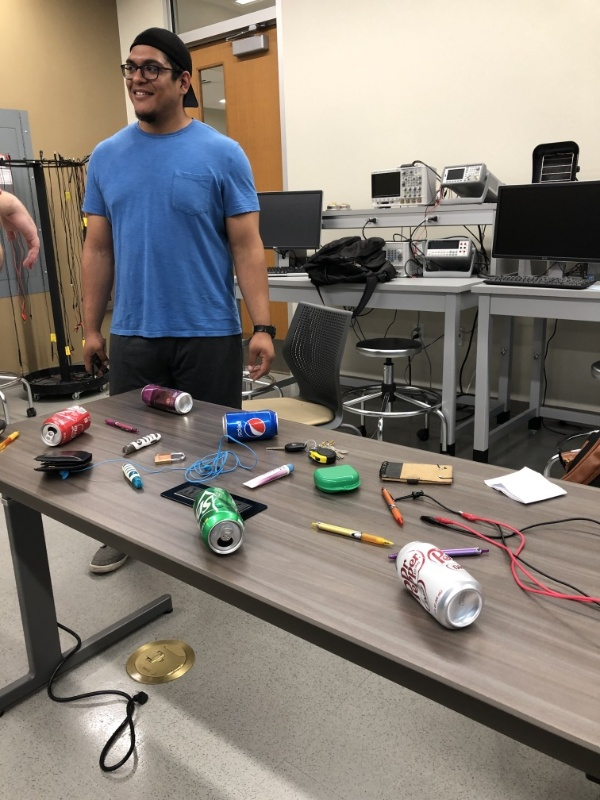can: (391, 537, 491, 634), (188, 481, 251, 561), (38, 401, 96, 452), (217, 407, 284, 448), (137, 379, 197, 417)
